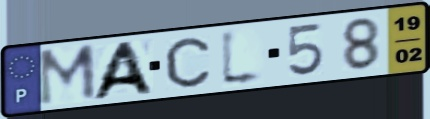5: (286, 21, 327, 78)
8: (338, 16, 382, 73)
A: (87, 39, 158, 102)
C: (162, 35, 213, 89)
L: (218, 26, 268, 90)
M: (35, 42, 99, 109)
